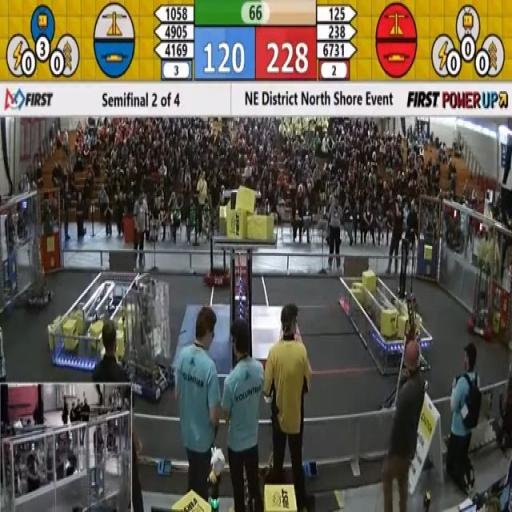robot: (120, 272, 179, 407), (381, 293, 435, 417), (466, 248, 495, 347), (204, 206, 232, 290), (392, 235, 420, 315), (25, 233, 53, 309)
